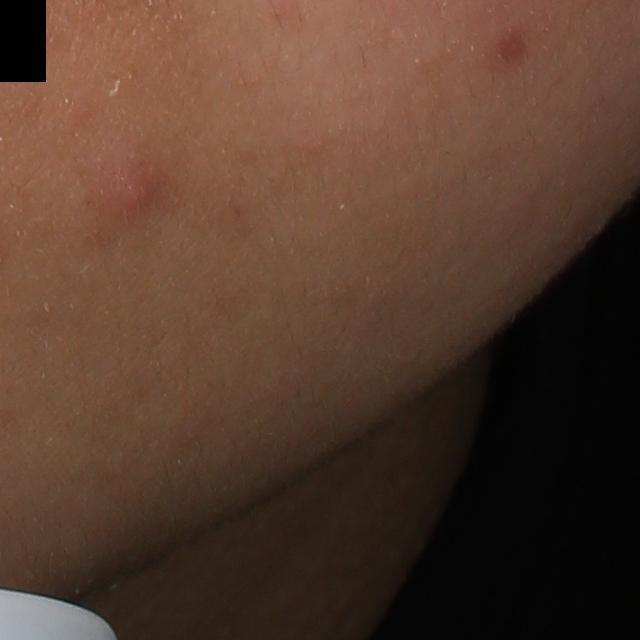papule: (98, 163, 158, 213)
